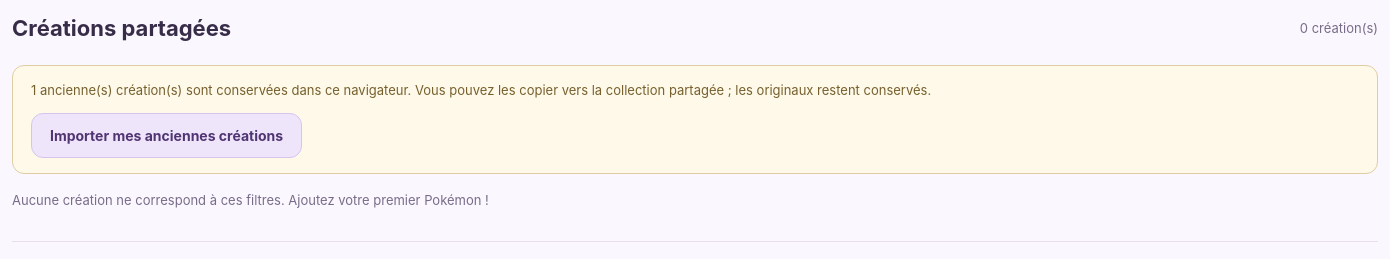
Test: CustomCollection Integration Test Suites › affiche un message français sans écran blanc si l’erreur est un objet
The image size is (1390, 259).
# l’utilisateur demande l’import des données locales.
Step 1. Click the button "Importer mes anciennes créations" → [167, 135], box left=31, top=112, right=302, bottom=158
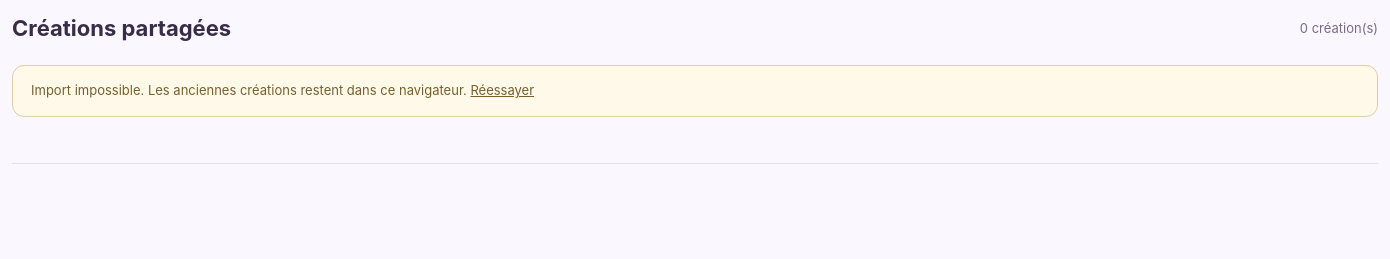
Expected: the heading "Créations partagées" is shown, left=12, top=12, right=231, bottom=45
Now the message shows "Import impossible. Les anciennes créations restent dans ce navigateur.", box left=31, top=82, right=467, bottom=98
